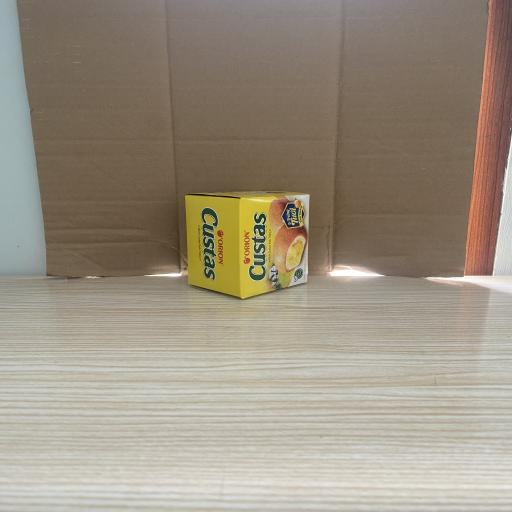custas: (184, 191, 310, 299)
